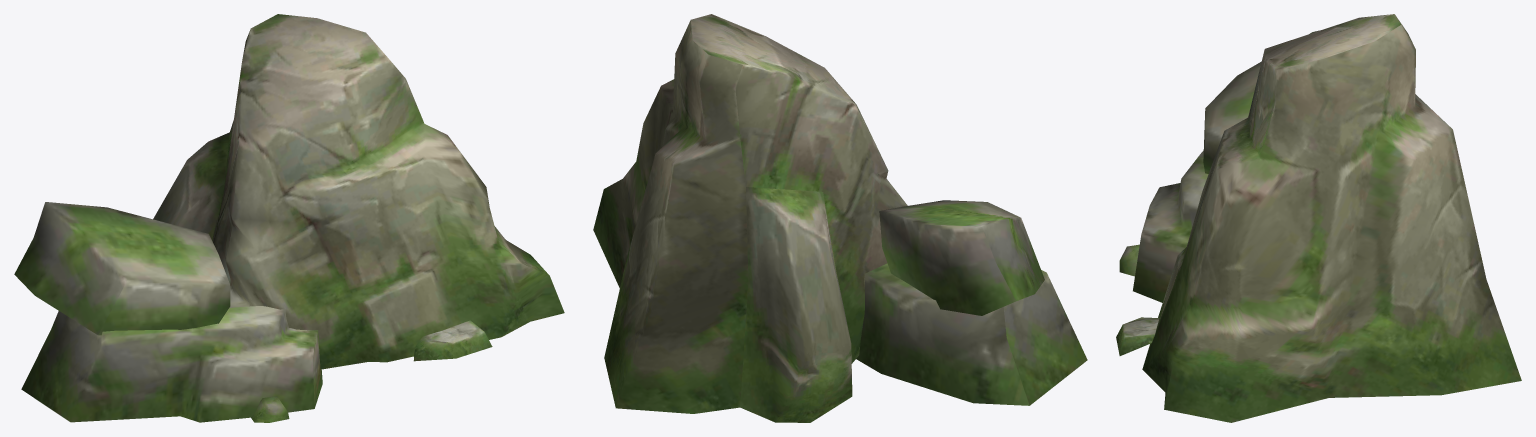
The model's file is shitou_24.FBX.
3 views of the same model, side by side, from view 1: azimuth 30°, elevation 25°; view 2: azimuth 150°, elevation 25°; view 3: azimuth 270°, elevation 25° (orthographic). The views are drawn at different scales.
Parts seen in each view (by area): view 1: shitou_24; view 2: shitou_24; view 3: shitou_24.
Boxes of the visible parts, x1,y1,x2,y2 form: shitou_24: (14, 14, 564, 422); shitou_24: (593, 14, 1087, 422); shitou_24: (1116, 14, 1521, 422).
Bounding box in the file's own units: 313 × 195 × 212.
